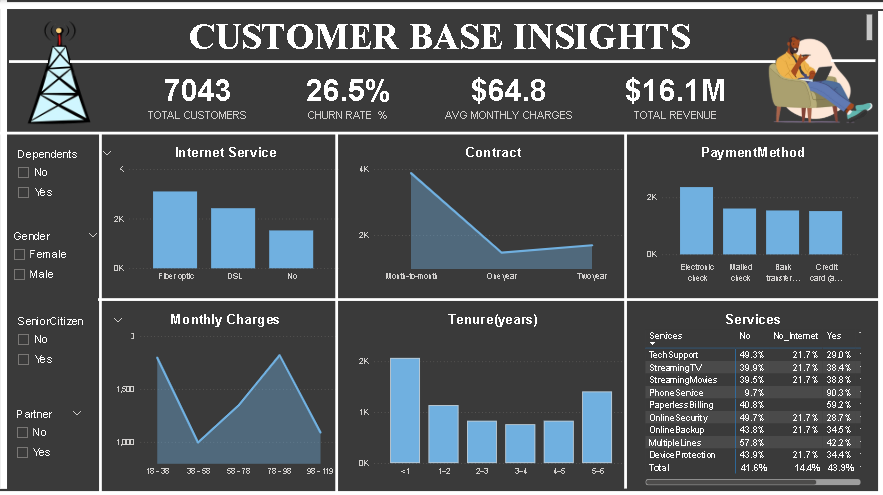

Layout of this report page (visuals, bound fields, positions):
{"tool":"powerbi","page":{"name":"ALL CUSTOMER","canvas":[1280,720],"ordinal":0},"visuals":[{"type":"card","fields":{"Values":["Count(RAW DATA EXCEL.customerID)"]},"box":[176,96,224,80],"z":0},{"type":"card","fields":{"Values":["CALCULATIONS.Churn Rate %"]},"box":[400,96,208,80],"z":1000},{"type":"card","fields":{"Values":["Sum(RAW DATA EXCEL.TotalCharges)"]},"box":[864,96,224,80],"z":2000},{"type":"slicer","fields":{"Values":["RAW DATA EXCEL.gender"]},"box":[10,326,146,88],"z":3000},{"type":"clusteredColumnChart","title":"Internet Service","fields":{"Category":["RAW DATA EXCEL.InternetService"],"Y":["CountNonNull(RAW DATA EXCEL.customerID)"]},"box":[160,208,336,208],"z":4000},{"type":"card","fields":{"Values":["CALCULATIONS.Avg Monthly Charges"]},"box":[624,96,224,80],"z":5000},{"type":"areaChart","title":"Contract","fields":{"Category":["RAW DATA EXCEL.Contract"],"Y":["CountNonNull(RAW DATA EXCEL.customerID)"]},"box":[512,208,400,208],"z":6000},{"type":"columnChart","title":" PaymentMethod","fields":{"Category":["RAW DATA EXCEL.PaymentMethod"],"Y":["CountNonNull(RAW DATA EXCEL.customerID)"]},"box":[928,208,320,208],"z":7000},{"type":"areaChart","title":"Monthly Charges","fields":{"Category":["RAW DATA EXCEL.Monthly Charges Range"],"Y":["CountNonNull(RAW DATA EXCEL.Churn)"]},"box":[160,448,336,248],"z":8000},{"type":"columnChart","title":"Tenure(years)","fields":{"Category":["RAW DATA EXCEL.tenure(years)"],"Y":["CountNonNull(RAW DATA EXCEL.Churn)"]},"box":[512,448,400,248],"z":9000},{"type":"pivotTable","title":"Services","fields":{"Rows":["RAW DATA EXCEL (2).Services"],"Columns":["RAW DATA EXCEL (2).Status"],"Values":["Min(RAW DATA EXCEL (2).Status)"]},"box":[928,448,320,256],"z":10000},{"type":"slicer","fields":{"Values":["RAW DATA EXCEL.Partner"]},"box":[14,582,118,88],"z":11000},{"type":"slicer","fields":{"Values":["RAW DATA EXCEL.Dependents"]},"box":[16,208,160,96],"z":12000},{"type":"slicer","fields":{"Values":["RAW DATA EXCEL.SeniorCitizen"]},"box":[16,448,176,96],"z":13000},{"type":"shape","box":[48,192,200,528],"z":14000},{"type":"shape","box":[144,352,1136,160],"z":15000},{"type":"shape","box":[0,0,1280,16],"z":16000},{"type":"shape","box":[0,704,1280,16],"z":17000},{"type":"shape","box":[0,0,16,704],"z":18000},{"type":"shape","box":[1264,16,16,704],"z":19000},{"type":"shape","box":[896,192,16,512],"z":20000},{"type":"shape","box":[464,192,48,528],"z":21000},{"type":"textbox","box":[16,16,1248,64],"z":22000},{"type":"shape","box":[0,176,1280,32],"z":23000},{"type":"image","box":[0,16,176,176],"z":24000},{"type":"image","box":[1088,0,192,208],"z":25000},{"type":"shape","box":[104,80,1016,16],"z":26000},{"type":"shape","box":[16,80,56,16],"z":27000},{"type":"shape","box":[1200,64,64,48],"z":28000}]}

Visuals, with their boxes in screenshot pixels (x1, y1, x2, y2), scaled from the page's 1280x720 canvas onto the 883x495 screenshot:
card - Count(RAW DATA EXCEL.customerID): crop(121, 66, 276, 121)
card - CALCULATIONS.Churn Rate %: crop(276, 66, 419, 121)
card - Sum(RAW DATA EXCEL.TotalCharges): crop(596, 66, 751, 121)
slicer - RAW DATA EXCEL.gender: crop(7, 224, 108, 285)
"Internet Service" clusteredColumnChart: crop(110, 143, 342, 286)
card - CALCULATIONS.Avg Monthly Charges: crop(430, 66, 585, 121)
"Contract" areaChart: crop(353, 143, 629, 286)
" PaymentMethod" columnChart: crop(640, 143, 861, 286)
"Monthly Charges" areaChart: crop(110, 308, 342, 478)
"Tenure(years)" columnChart: crop(353, 308, 629, 478)
"Services" pivotTable: crop(640, 308, 861, 484)
slicer - RAW DATA EXCEL.Partner: crop(10, 400, 91, 461)
slicer - RAW DATA EXCEL.Dependents: crop(11, 143, 121, 209)
slicer - RAW DATA EXCEL.SeniorCitizen: crop(11, 308, 132, 374)
shape: crop(33, 132, 171, 494)
shape: crop(99, 242, 882, 352)
shape: crop(0, 0, 882, 11)
shape: crop(0, 484, 882, 494)
shape: crop(0, 0, 11, 484)
shape: crop(872, 11, 882, 494)
shape: crop(618, 132, 629, 484)
shape: crop(320, 132, 353, 494)
textbox: crop(11, 11, 872, 55)
shape: crop(0, 121, 882, 143)
image: crop(0, 11, 121, 132)
image: crop(751, 0, 882, 143)
shape: crop(72, 55, 773, 66)
shape: crop(11, 55, 50, 66)
shape: crop(828, 44, 872, 77)
